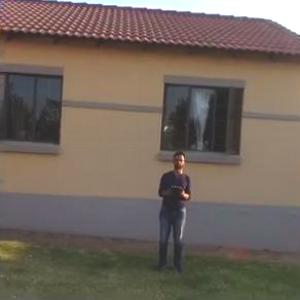follow: (150, 141, 192, 276)
